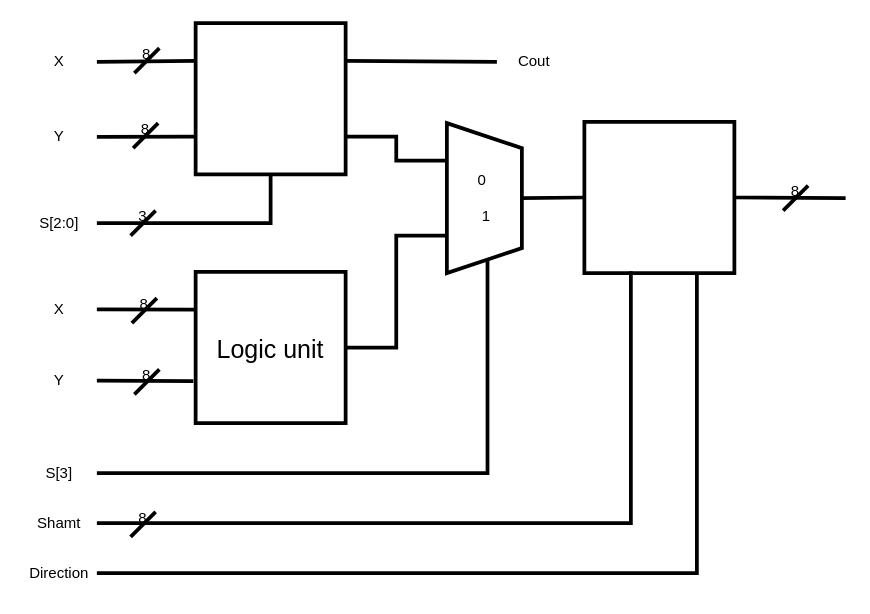
Image size: 870x614. Some labels were removed from this diagram. Here are the shapes that lost their labels. From the top down, the box of each, then its label:
(193, 21, 347, 176): Arithmetic unit
(582, 119, 736, 274): Shifter
